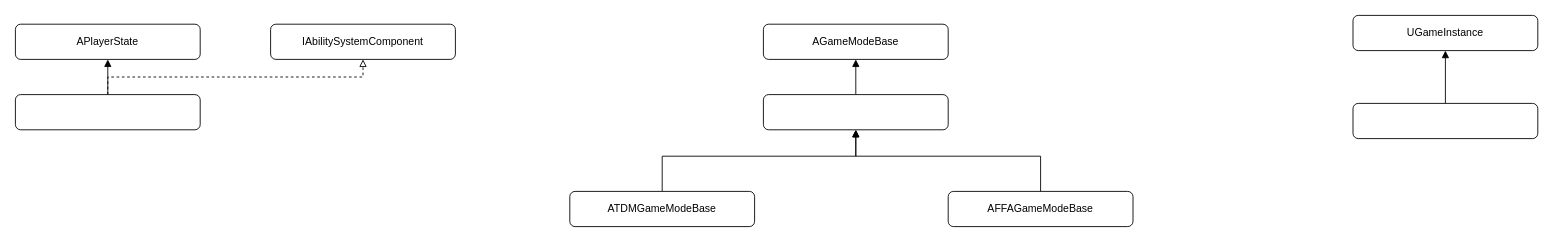
Some shapes in this 1553 by 242 pixel diagram are drawn without their labels. The centre of each missing label's shape, as x and y in pixels:
APlayerStateBase: the point at 107,112
AUEGameTrainingRoomGameMode: the point at 855,112
UTrainingRoomGameInstance: the point at 1445,121
